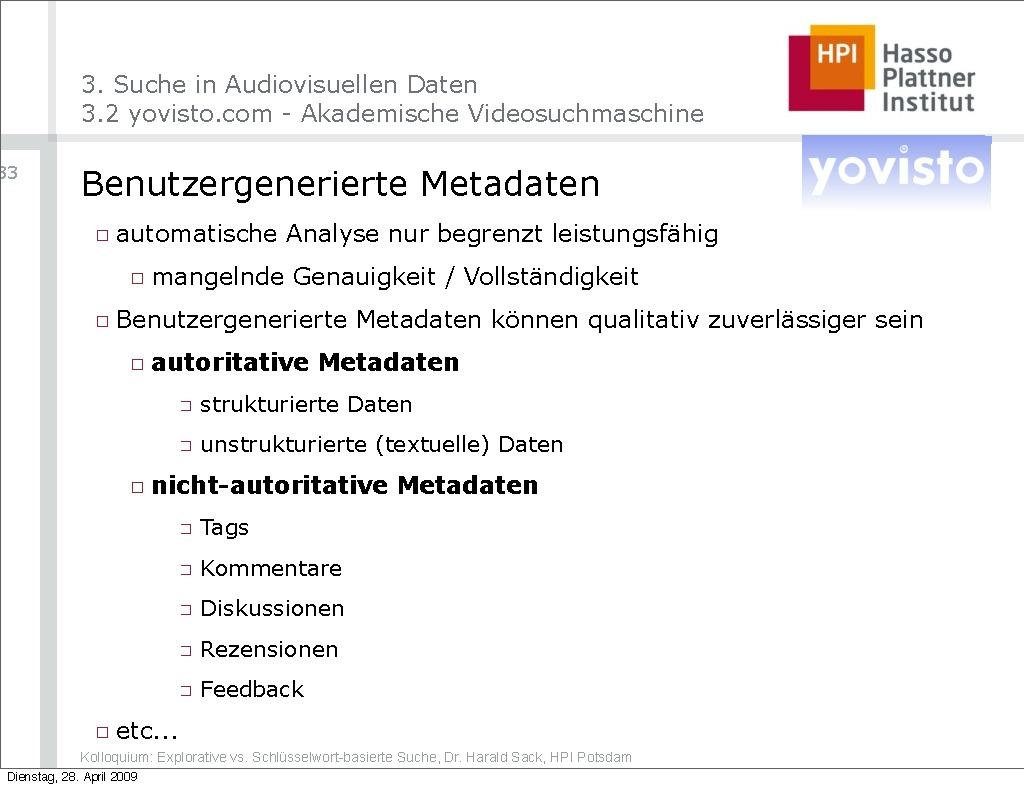paragraph: (92, 214, 961, 723)
subtitle: (73, 157, 614, 209)
title: (70, 68, 731, 135)
